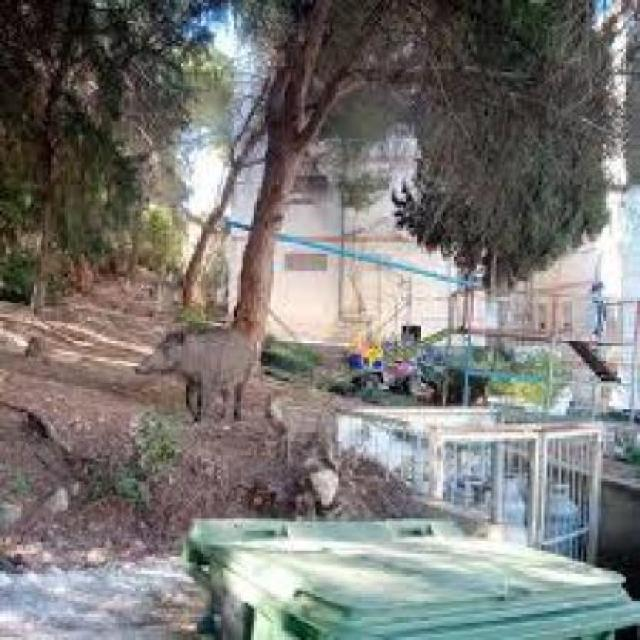wildboar: (131, 316, 264, 435)
